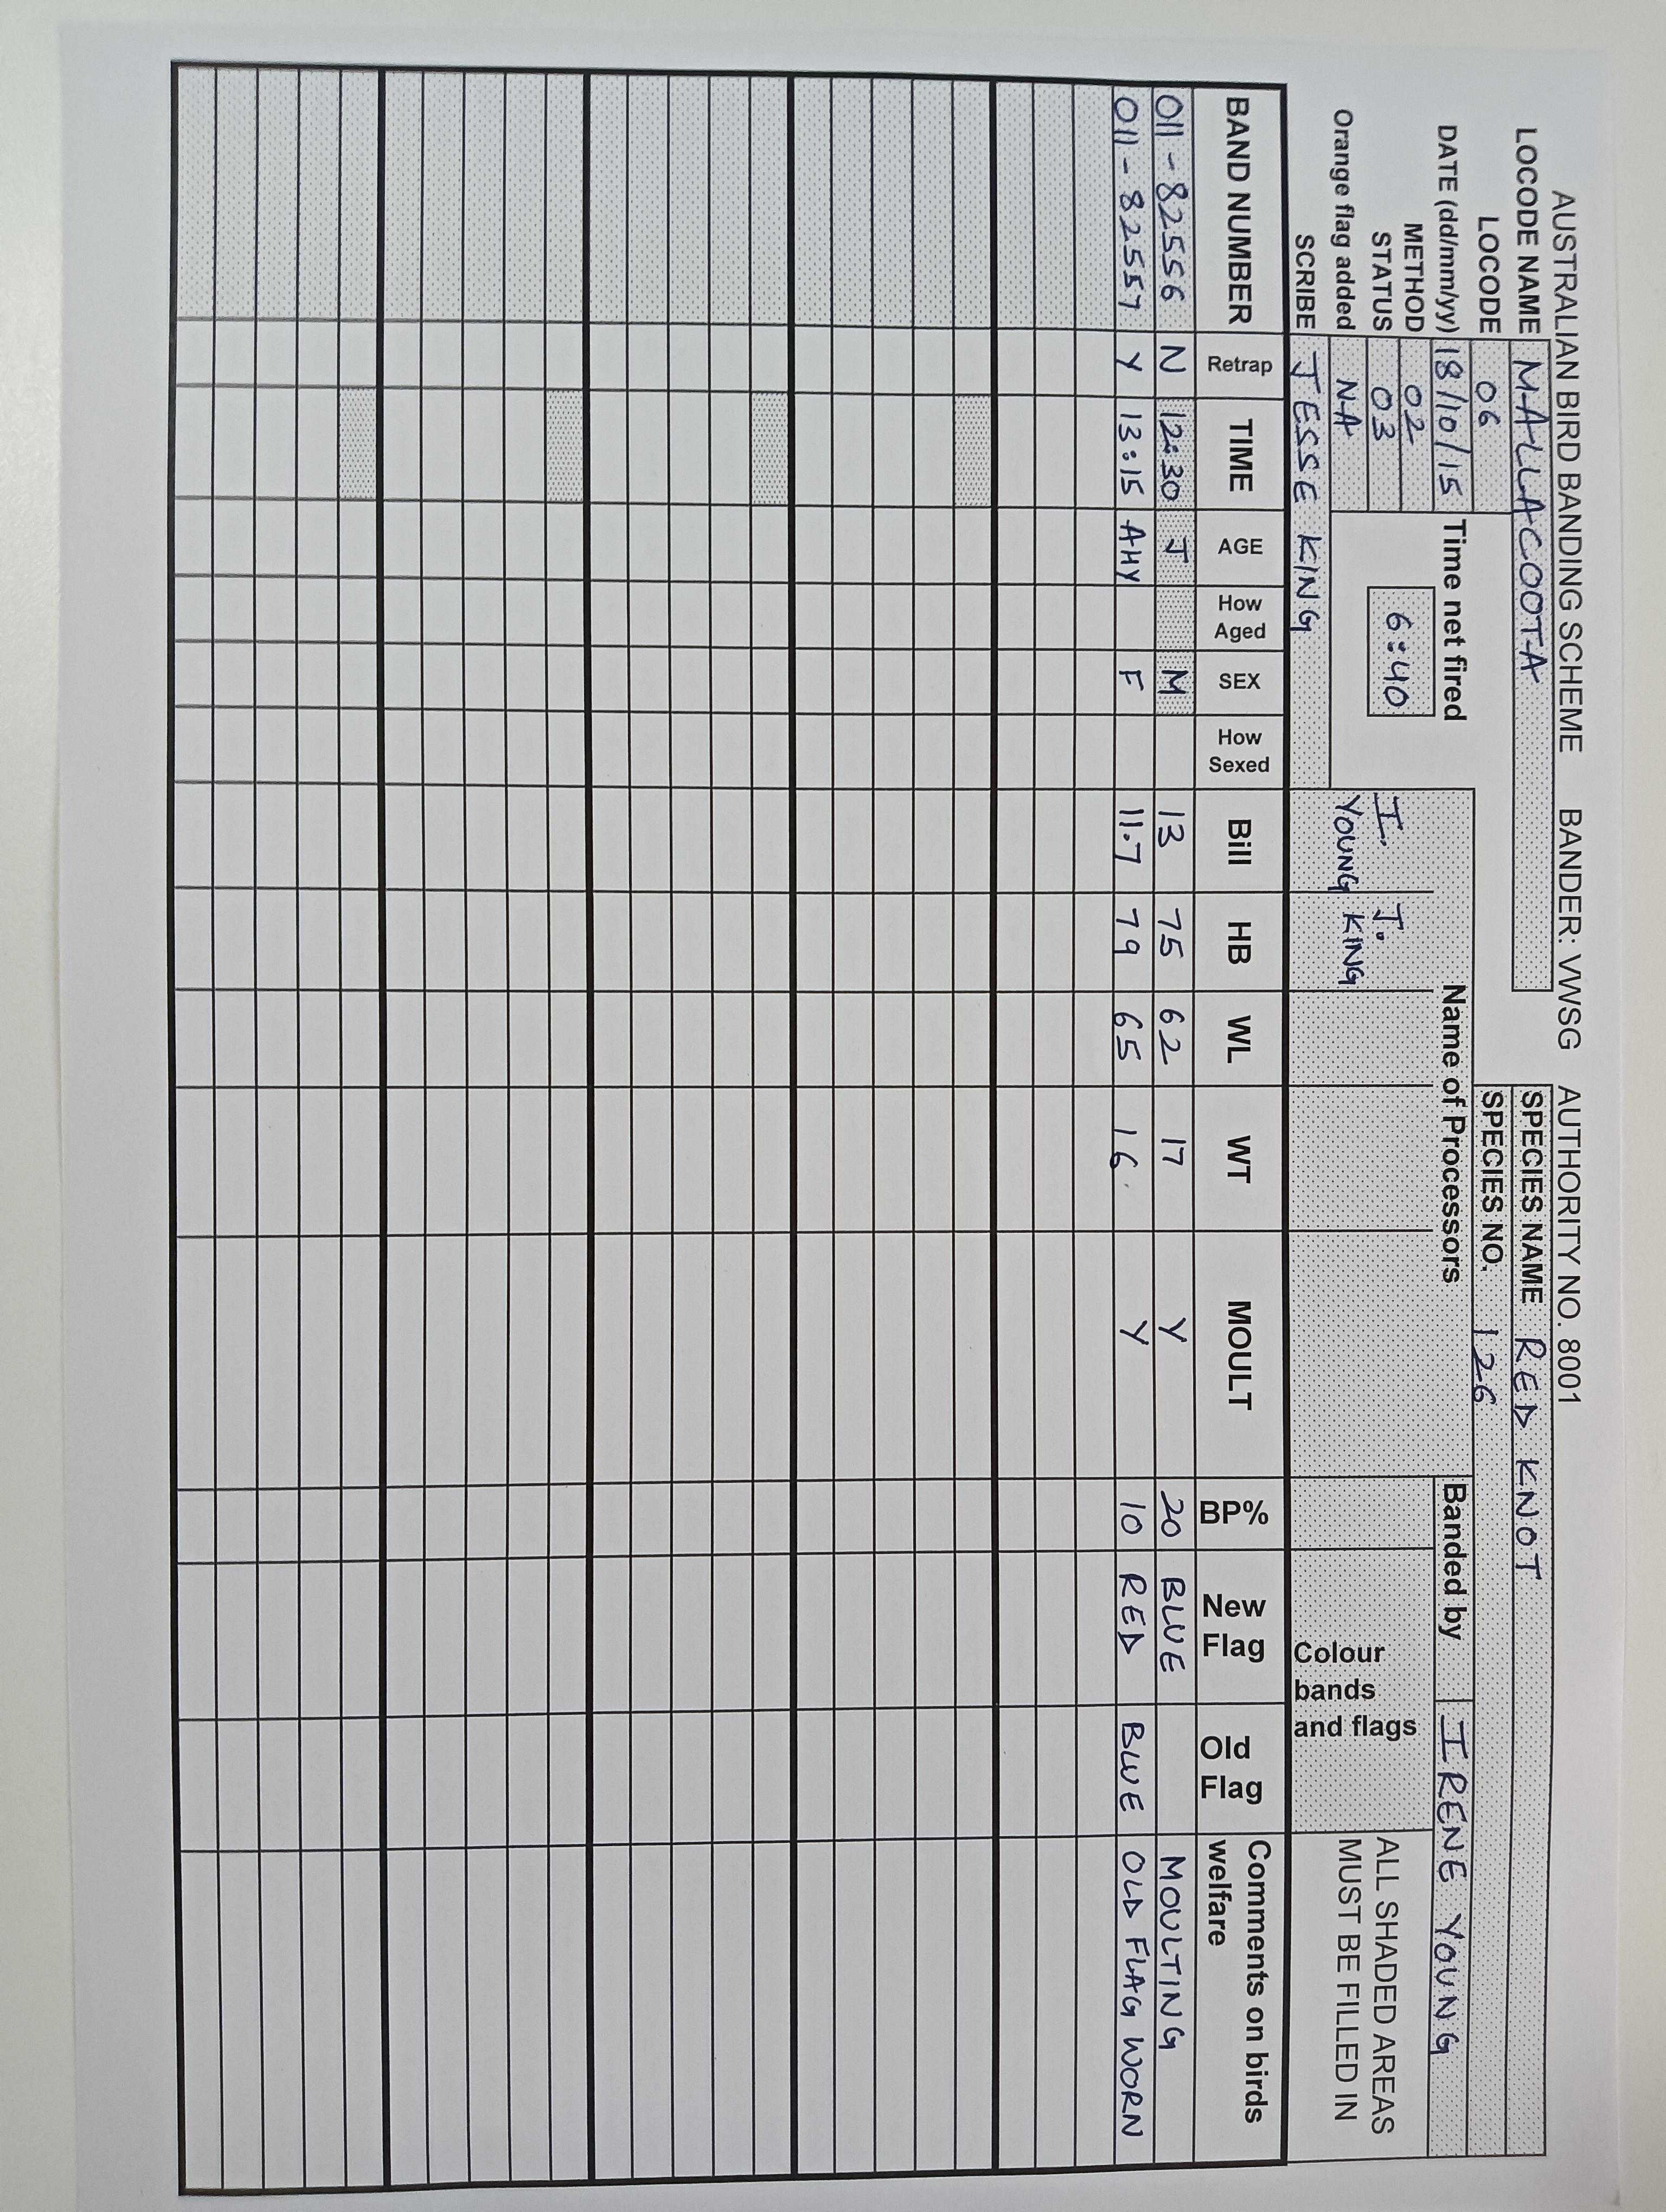BANDED_BY: (1426, 1474, 1475, 2158)
DATA: (1113, 84, 1155, 2167), (1153, 86, 1193, 2165)
DATE: (1430, 101, 1479, 514)
LOCOCODE: (1475, 187, 1512, 512)
LOCOCODE_NAME: (1512, 98, 1556, 995)
METHOD: (1398, 196, 1433, 511)
NAME_OF_PROCESSORS: (1293, 789, 1444, 897), (1297, 899, 1437, 990)
ORANGE_FLAG_ADDED: (1330, 93, 1369, 509)
SCRIBE: (1288, 226, 1330, 790)
SPECIES_NAME: (1509, 1086, 1554, 2151)
SPECIES_NO: (1465, 1082, 1514, 2154)
STATUS: (1367, 220, 1400, 511)
TIME_NET_FIRED: (1348, 519, 1488, 768)
